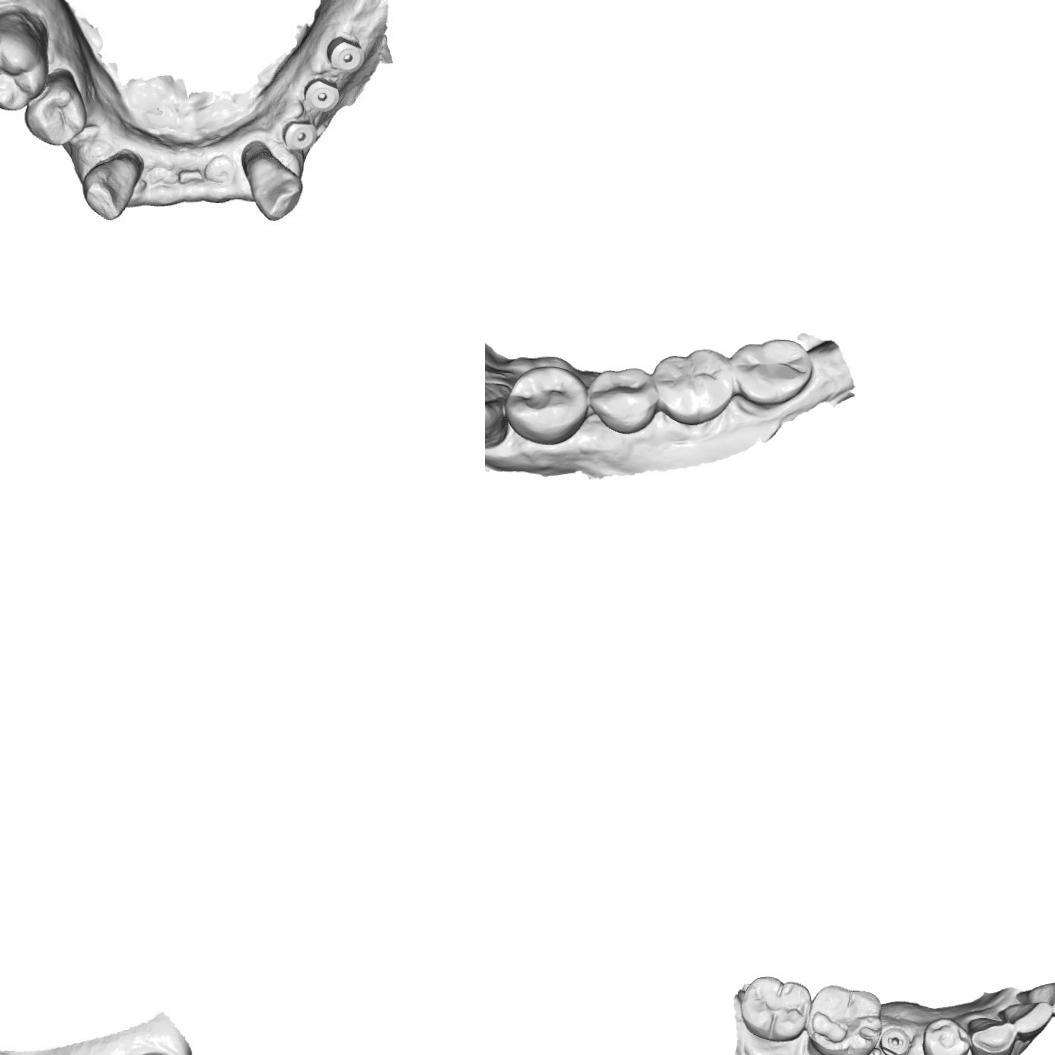canine: (241, 137, 301, 227), (79, 149, 146, 221), (967, 1013, 1018, 1055), (485, 374, 510, 448)
implant: (320, 33, 366, 71), (304, 76, 345, 116), (279, 120, 319, 148)
implant_minus: (877, 1023, 913, 1055)
incisor: (998, 1000, 1054, 1040), (1023, 976, 1055, 1018)
molar: (651, 346, 735, 428), (729, 336, 815, 408), (804, 982, 883, 1055), (738, 974, 812, 1044), (0, 20, 47, 117)
premolar: (504, 364, 589, 446), (22, 70, 89, 149), (588, 363, 658, 437), (919, 1015, 972, 1055)
